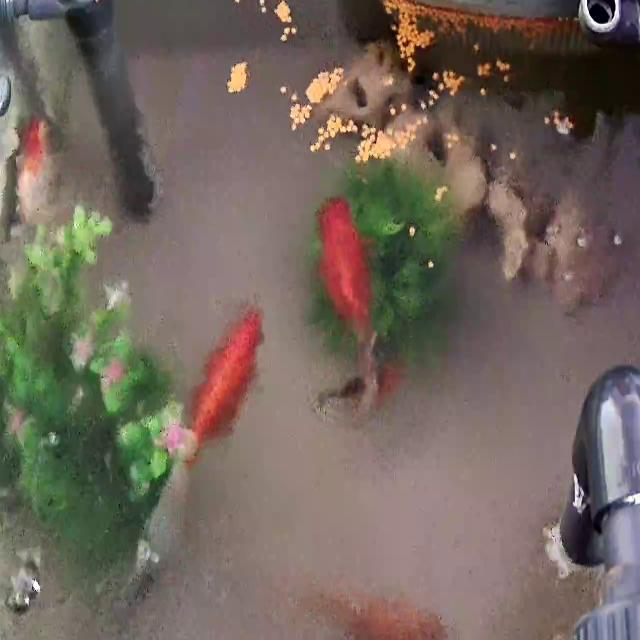fish: (324, 197, 384, 416), (184, 303, 264, 457), (318, 588, 428, 640), (15, 119, 58, 228)
